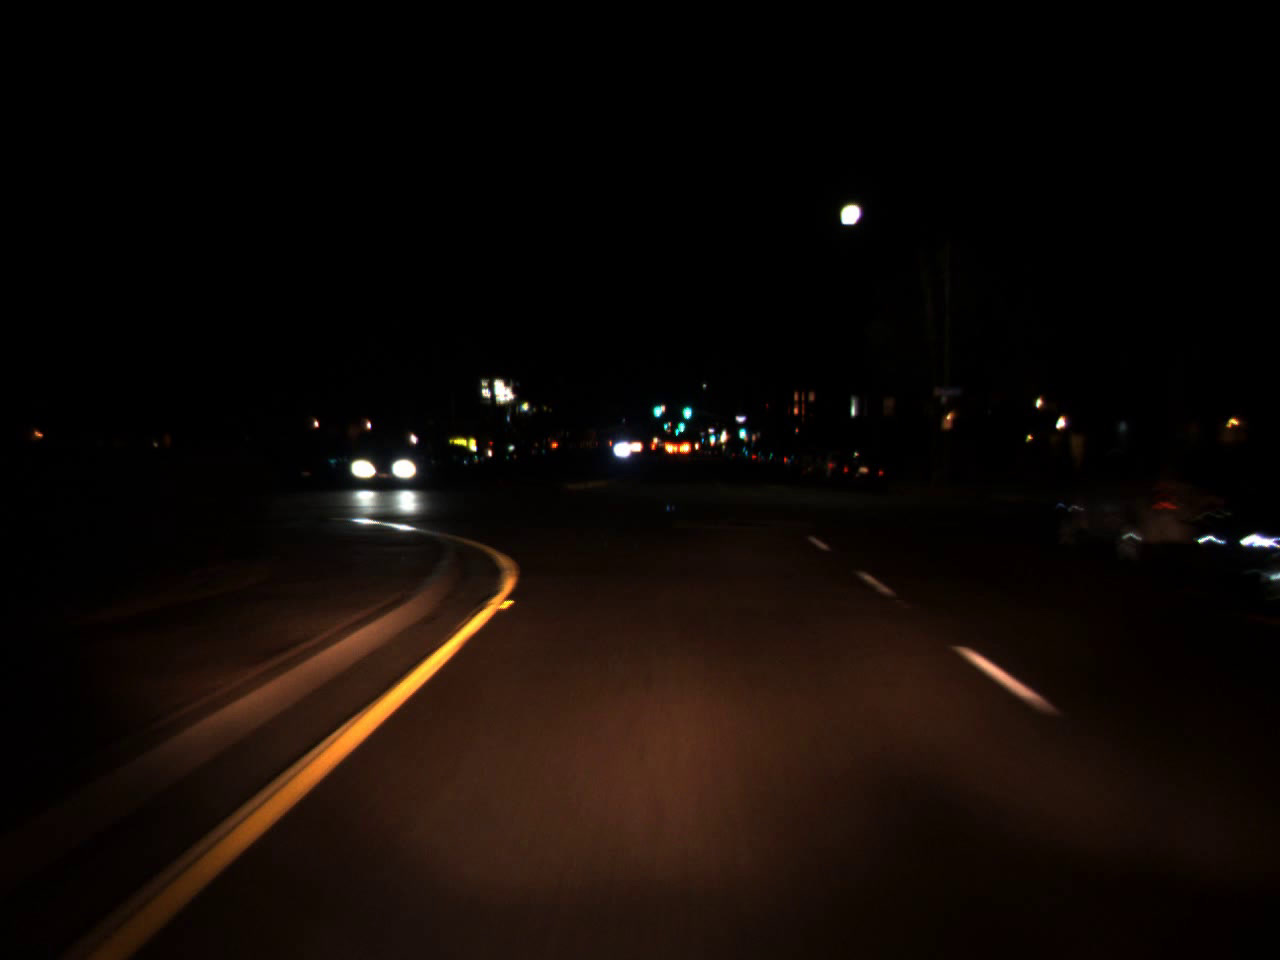go: (680, 391, 692, 424), (651, 392, 661, 422), (674, 412, 683, 436), (737, 419, 746, 440), (674, 419, 681, 438), (707, 430, 716, 442), (661, 418, 668, 430)
